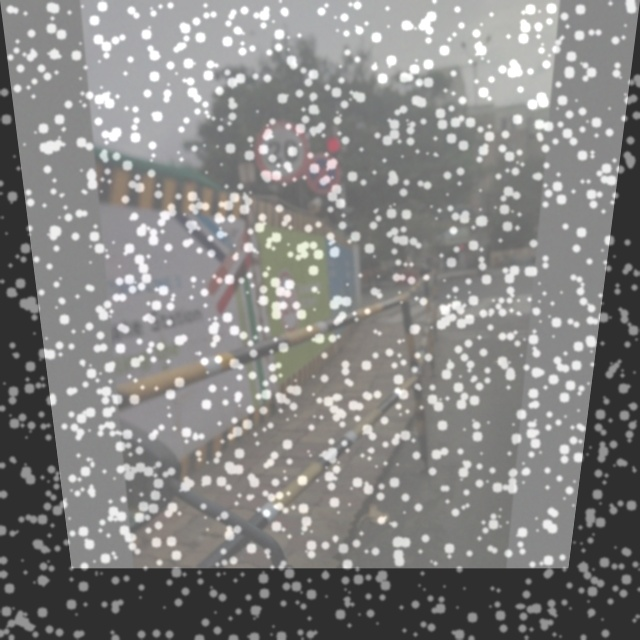Speed_Limit_20: (251, 120, 309, 180)
